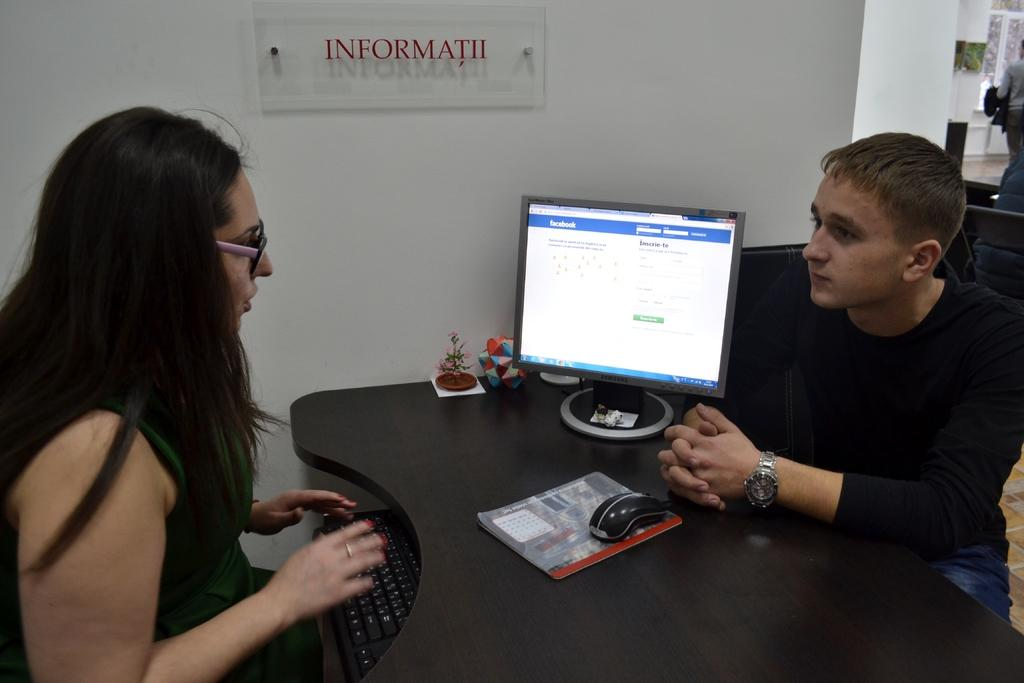Computer-keyboard: (325, 506, 414, 680)
Computer-monitor: (506, 191, 760, 457)
Computer-mouse: (588, 492, 669, 543)
